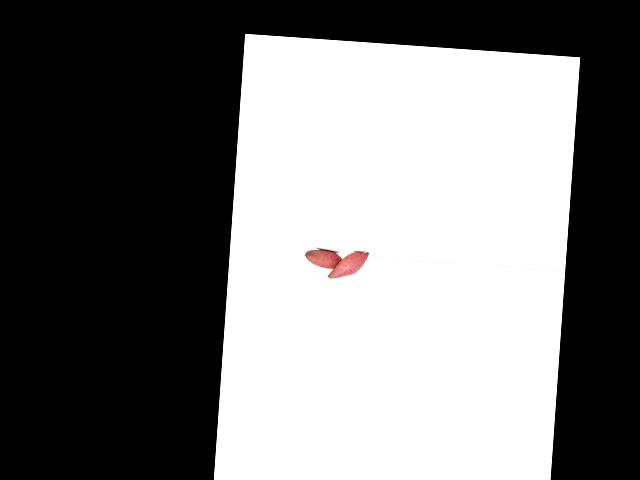sweet_potato: (302, 248, 345, 272)
